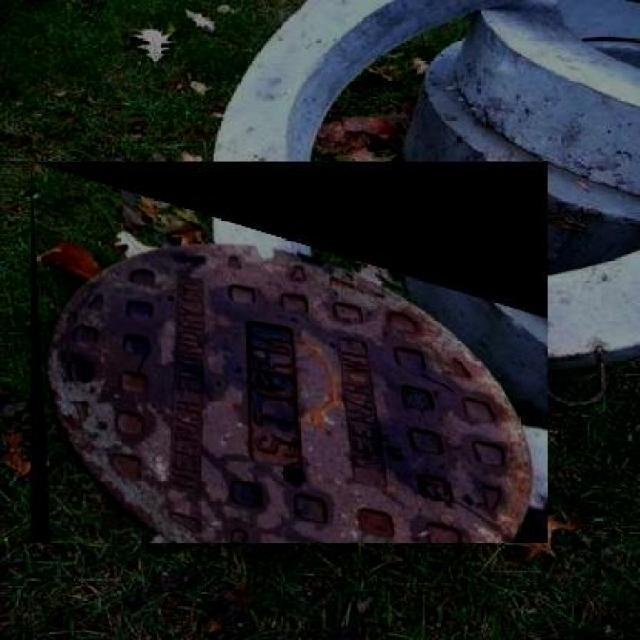Manhole: (30, 162, 548, 544)
